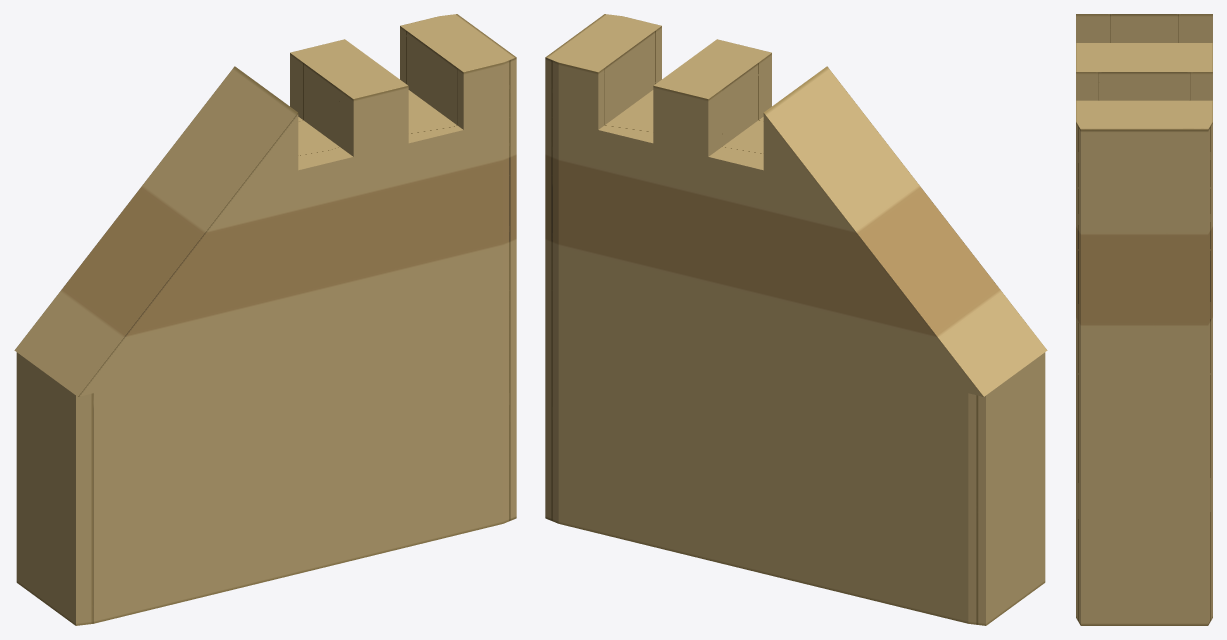
The model's file is wall2.fbx.
3 renders of one model, left to right at view 1: azimuth 30°, elevation 25°; view 2: azimuth 150°, elevation 25°; view 3: azimuth 270°, elevation 25°, orthographic. The views are drawn at different scales.
Visible parts, largest first — view 1: Cube.228; view 2: Cube.228; view 3: Cube.228.
Part boxes in pixels (box(x1,y1,x2,y2)): Cube.228: box(14, 14, 516, 625); Cube.228: box(545, 14, 1047, 625); Cube.228: box(1076, 14, 1212, 625).
Size of the model in its own units: 50 by 200 by 200.
